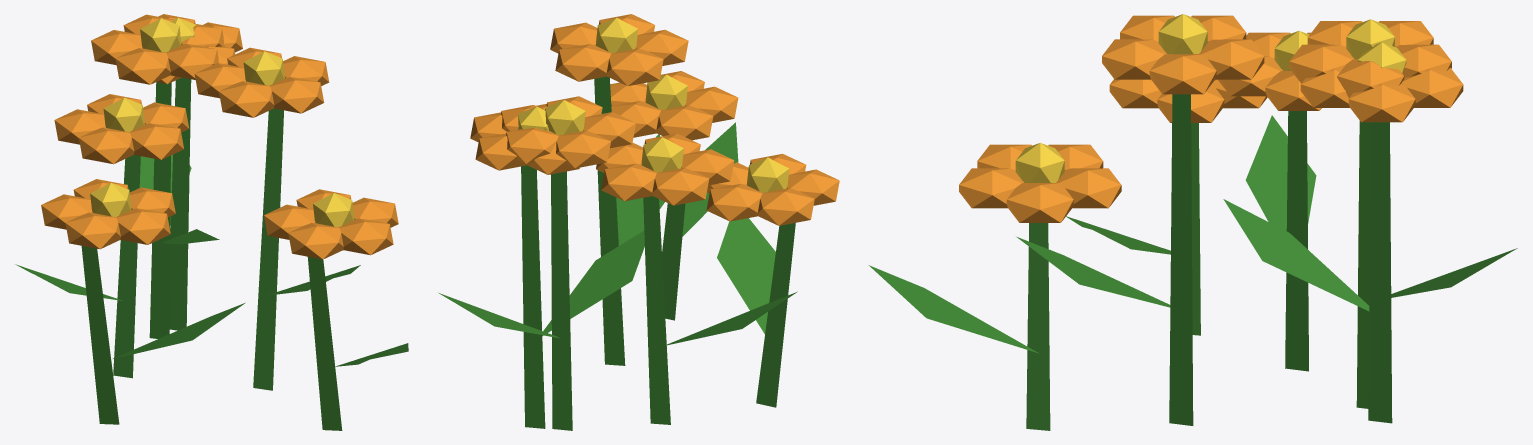
File: flowers4.glb
3 renders of one model, left to right at view 1: azimuth 30°, elevation 25°; view 2: azimuth 150°, elevation 25°; view 3: azimuth 270°, elevation 25°, orthographic. The views are drawn at different scales.
Visible parts, largest first — view 1: flowers4; view 2: flowers4; view 3: flowers4.
Part boxes in pixels (x1=…): flowers4: x1=15, y1=14, x2=408, y2=430; flowers4: x1=439, y1=14, x2=839, y2=430; flowers4: x1=868, y1=14, x2=1517, y2=430.
Size of the model in its own units: 0.5569 by 0.6292 by 0.9073.
